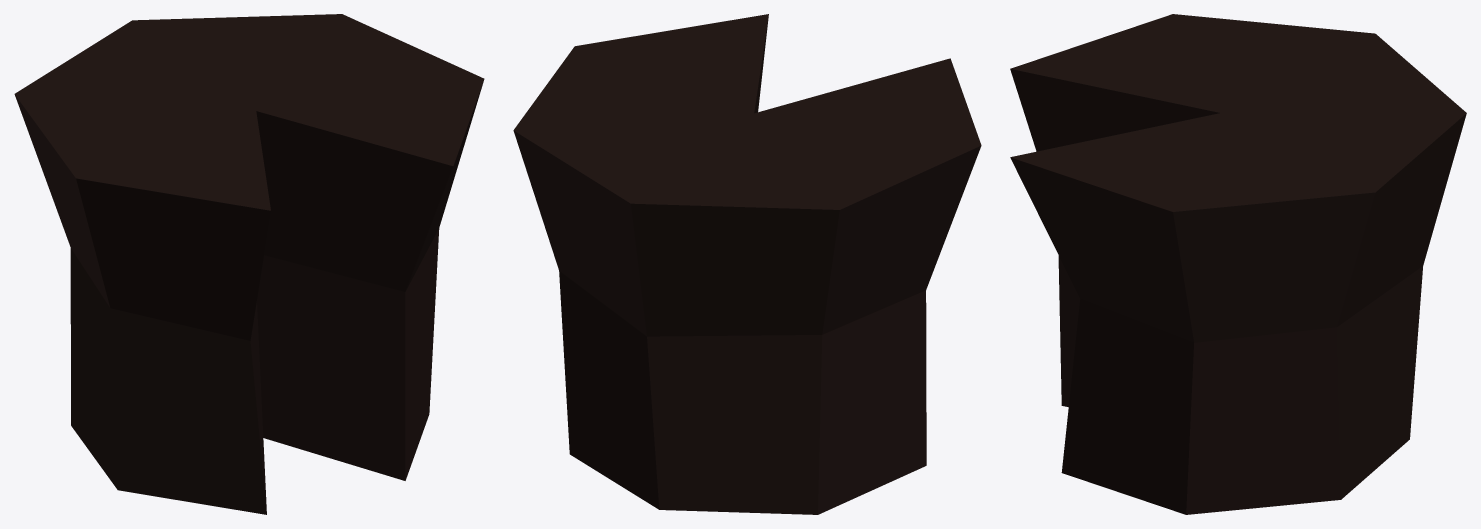
File: Stump.001_1.fbx
3 renders of one model, left to right at view 1: azimuth 30°, elevation 25°; view 2: azimuth 150°, elevation 25°; view 3: azimuth 270°, elevation 25°, orthographic.
Parts seen in each view (by area): view 1: Stump.001_1; view 2: Stump.001_1; view 3: Stump.001_1.
Part boxes in pixels (left/top/right/bottom): Stump.001_1: left=14, top=14, right=484, bottom=514; Stump.001_1: left=513, top=14, right=981, bottom=514; Stump.001_1: left=1010, top=14, right=1466, bottom=514.
Bounding box in the file's own units: 17.63 × 13.55 × 17.18.
